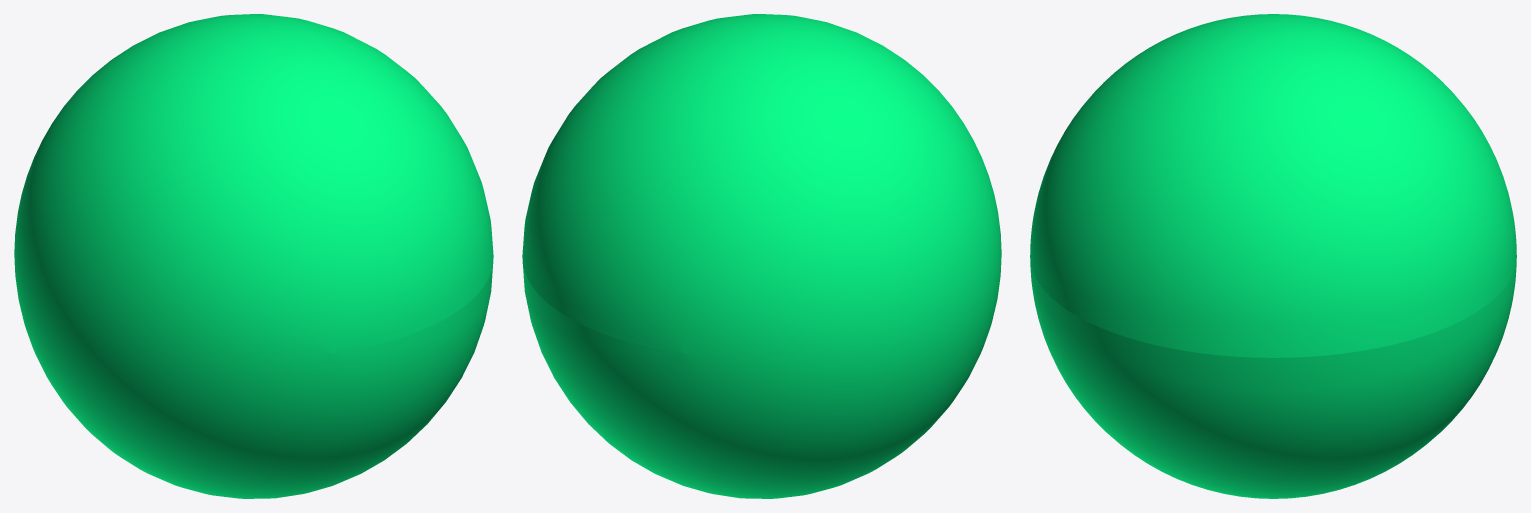
The model's file is electron_density_field_ultra-hd_fallback_1767346400294.glb.
3 views of the same model, side by side, from view 1: azimuth 30°, elevation 25°; view 2: azimuth 150°, elevation 25°; view 3: azimuth 270°, elevation 25° (orthographic).
Visible parts, largest first — view 1: MathShape; view 2: MathShape; view 3: MathShape.
Part boxes in pixels (left/top/right/bottom): MathShape: left=14, top=14, right=493, bottom=498; MathShape: left=522, top=14, right=1001, bottom=498; MathShape: left=1030, top=14, right=1516, bottom=498.
Size of the model in its own units: 1.06 by 1.08 by 1.08.
